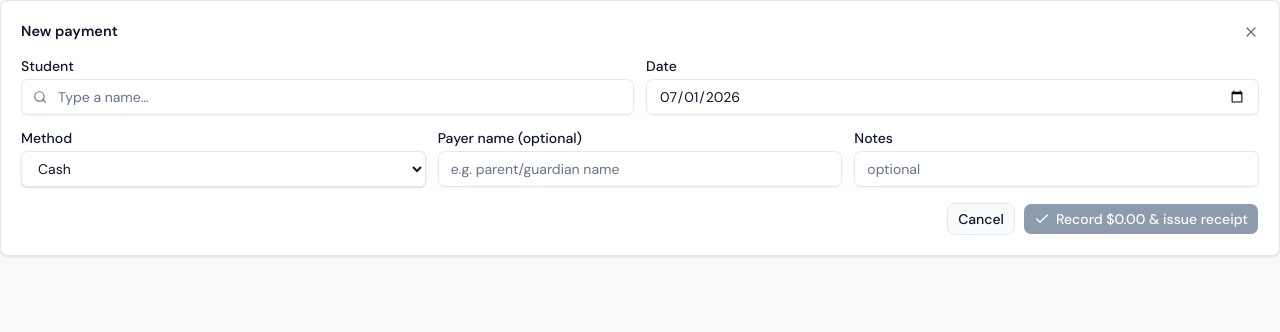
NewPaymentForm — quick-add student › clicking 'Add new student' opens the inline mini-form
This screenshot has width=1280, height=332.
Type "Brand" into the field labelled "Student". click: [328, 97]
box: [21,79,634,115]
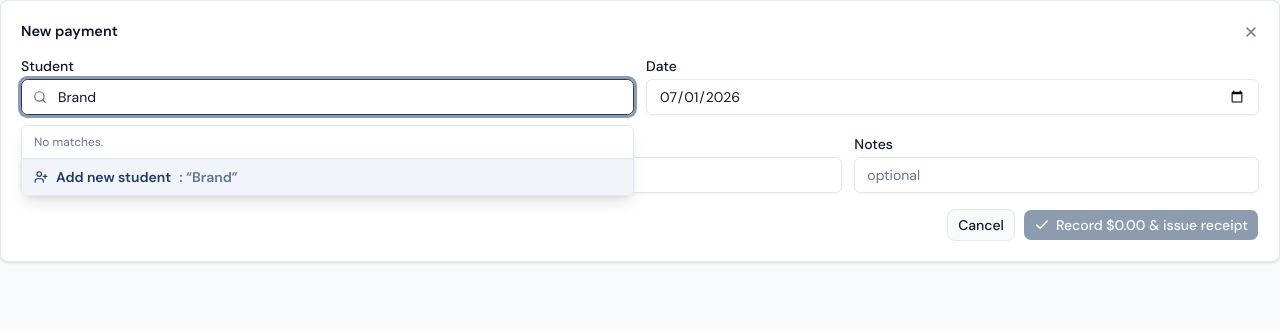
Click the button "Add new student : “Brand”". click: [114, 177]
box: [22,159,633,195]
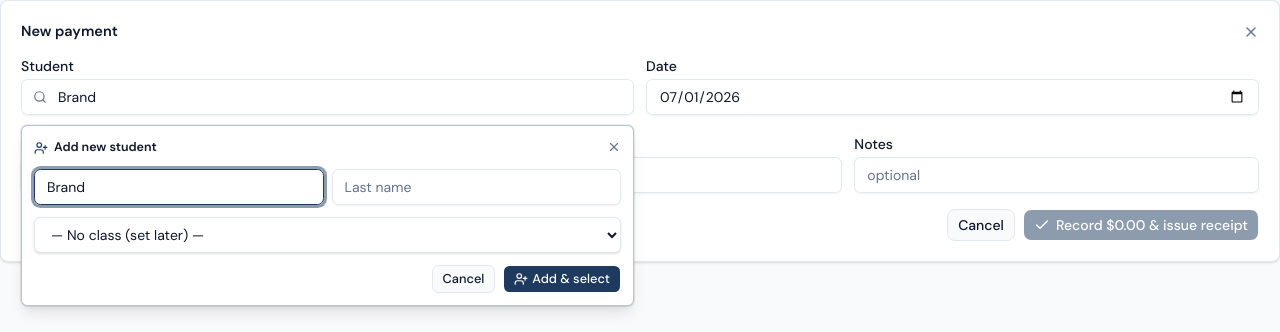
Expected: the field with placeholder "First name" is shown, [34,168,324,204]
Expected: the field with placeholder "Last name" is shown, [332,168,621,204]
